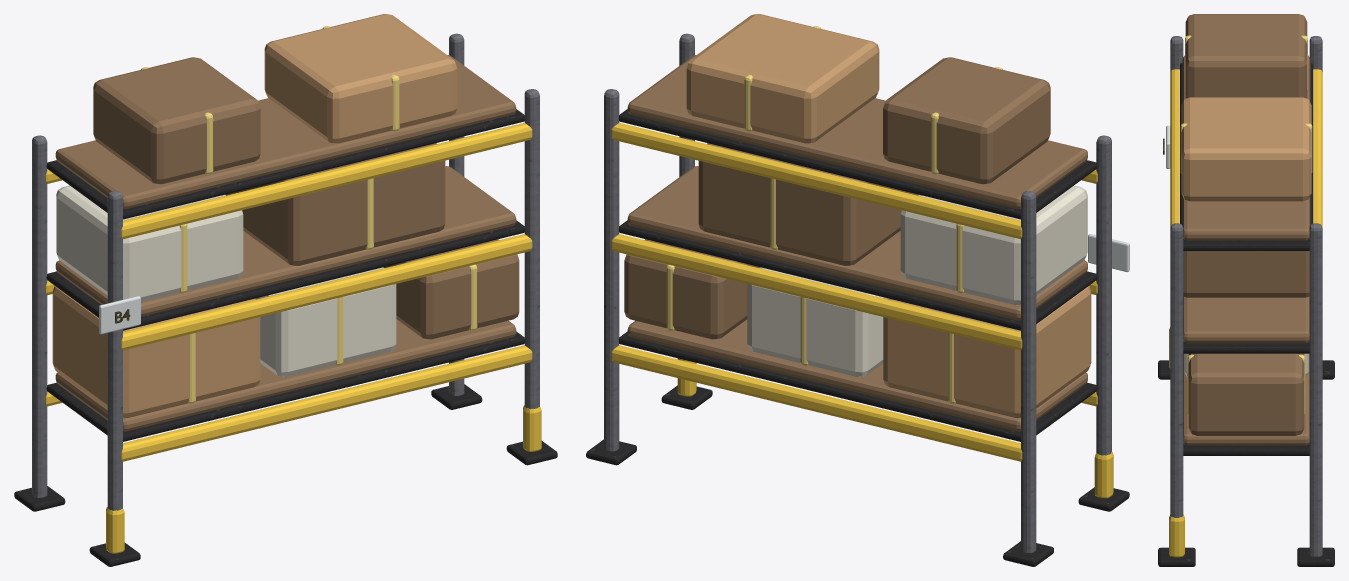
File: decor_cargo_storage_rack.glb
The picture shows the model from 3 angles, left to right: view 1: azimuth 30°, elevation 25°; view 2: azimuth 150°, elevation 25°; view 3: azimuth 270°, elevation 25°; orthographic projection. The views are drawn at different scales.
Visible parts, largest first — view 1: DEC_CargoStorageRack__Load_3_2, DEC_CargoStorageRack__Load_3_1, DEC_CargoStorageRack__Load_1_1, DEC_CargoStorageRack__Pallet_3, DEC_CargoStorageRack__Load_2_2, DEC_CargoStorageRack__Load_2_1, DEC_CargoStorageRack__Pallet_2, DEC_CargoStorageRack__Load_1_2, DEC_CargoStorageRack__Beam_2A, DEC_CargoStorageRack__Beam_1A, DEC_CargoStorageRack__Beam_3A, DEC_CargoStorageRack__Pallet_1 (+15 smaller); view 2: DEC_CargoStorageRack__Load_3_2, DEC_CargoStorageRack__Load_3_1, DEC_CargoStorageRack__Load_1_1, DEC_CargoStorageRack__Load_2_2, DEC_CargoStorageRack__Pallet_3, DEC_CargoStorageRack__Load_2_1, DEC_CargoStorageRack__Pallet_2, DEC_CargoStorageRack__Load_1_2, DEC_CargoStorageRack__Beam_1B, DEC_CargoStorageRack__Beam_2B, DEC_CargoStorageRack__Beam_3B, DEC_CargoStorageRack__Pallet_1 (+14 smaller); view 3: DEC_CargoStorageRack__Load_3_2, DEC_CargoStorageRack__Load_3_1, DEC_CargoStorageRack__Load_1_3, DEC_CargoStorageRack__Load_2_2, DEC_CargoStorageRack__Pallet_2, DEC_CargoStorageRack__Pallet_3, DEC_CargoStorageRack__Upright_RB, DEC_CargoStorageRack__Upright_RA, DEC_CargoStorageRack__Deck_3, DEC_CargoStorageRack__Pallet_1, DEC_CargoStorageRack__Beam_3A, DEC_CargoStorageRack__Beam_3B (+11 smaller).
Part boxes in pixels (left/top/right/bottom): DEC_CargoStorageRack__Load_3_2: left=264, top=14, right=457, bottom=143; DEC_CargoStorageRack__Load_3_1: left=93, top=57, right=260, bottom=184; DEC_CargoStorageRack__Load_1_1: left=52, top=286, right=260, bottom=417; DEC_CargoStorageRack__Pallet_3: left=55, top=55, right=516, bottom=208; DEC_CargoStorageRack__Load_2_2: left=225, top=143, right=445, bottom=265; DEC_CargoStorageRack__Load_2_1: left=56, top=185, right=243, bottom=301; DEC_CargoStorageRack__Pallet_2: left=55, top=166, right=516, bottom=316; DEC_CargoStorageRack__Load_1_2: left=255, top=267, right=396, bottom=376; DEC_CargoStorageRack__Beam_2A: left=121, top=234, right=532, bottom=350; DEC_CargoStorageRack__Beam_1A: left=121, top=345, right=532, bottom=461; DEC_CargoStorageRack__Beam_3A: left=121, top=123, right=532, bottom=239; DEC_CargoStorageRack__Pallet_1: left=55, top=319, right=516, bottom=431; DEC_CargoStorageRack__Load_3_2: left=686, top=14, right=879, bottom=143; DEC_CargoStorageRack__Load_3_1: left=883, top=57, right=1050, bottom=184; DEC_CargoStorageRack__Load_1_1: left=883, top=286, right=1091, bottom=418; DEC_CargoStorageRack__Load_2_2: left=698, top=143, right=918, bottom=265; DEC_CargoStorageRack__Pallet_3: left=627, top=55, right=1087, bottom=208; DEC_CargoStorageRack__Load_2_1: left=900, top=185, right=1087, bottom=305; DEC_CargoStorageRack__Pallet_2: left=627, top=166, right=1087, bottom=320; DEC_CargoStorageRack__Load_1_2: left=747, top=267, right=888, bottom=376; DEC_CargoStorageRack__Beam_1B: left=611, top=345, right=1022, bottom=461; DEC_CargoStorageRack__Beam_2B: left=611, top=234, right=1022, bottom=350; DEC_CargoStorageRack__Beam_3B: left=611, top=123, right=1022, bottom=239; DEC_CargoStorageRack__Pallet_1: left=627, top=319, right=1087, bottom=431; DEC_CargoStorageRack__Load_3_2: left=1181, top=97, right=1311, bottom=201; DEC_CargoStorageRack__Load_3_1: left=1185, top=14, right=1307, bottom=98; DEC_CargoStorageRack__Load_1_3: left=1188, top=353, right=1304, bottom=435; DEC_CargoStorageRack__Load_2_2: left=1183, top=251, right=1309, bottom=297; DEC_CargoStorageRack__Pallet_2: left=1183, top=296, right=1309, bottom=343; DEC_CargoStorageRack__Pallet_3: left=1182, top=55, right=1310, bottom=240; DEC_CargoStorageRack__Upright_RB: left=1309, top=223, right=1322, bottom=556; DEC_CargoStorageRack__Upright_RA: left=1170, top=223, right=1183, bottom=517; DEC_CargoStorageRack__Deck_3: left=1180, top=63, right=1312, bottom=250; DEC_CargoStorageRack__Pallet_1: left=1183, top=353, right=1309, bottom=445; DEC_CargoStorageRack__Beam_3A: left=1170, top=69, right=1179, bottom=227; DEC_CargoStorageRack__Beam_3B: left=1313, top=69, right=1322, bottom=227.
Size of the model in its own units: 3.33 by 2.91 by 1.22.
Materials: 9 (2 with a texture image).
